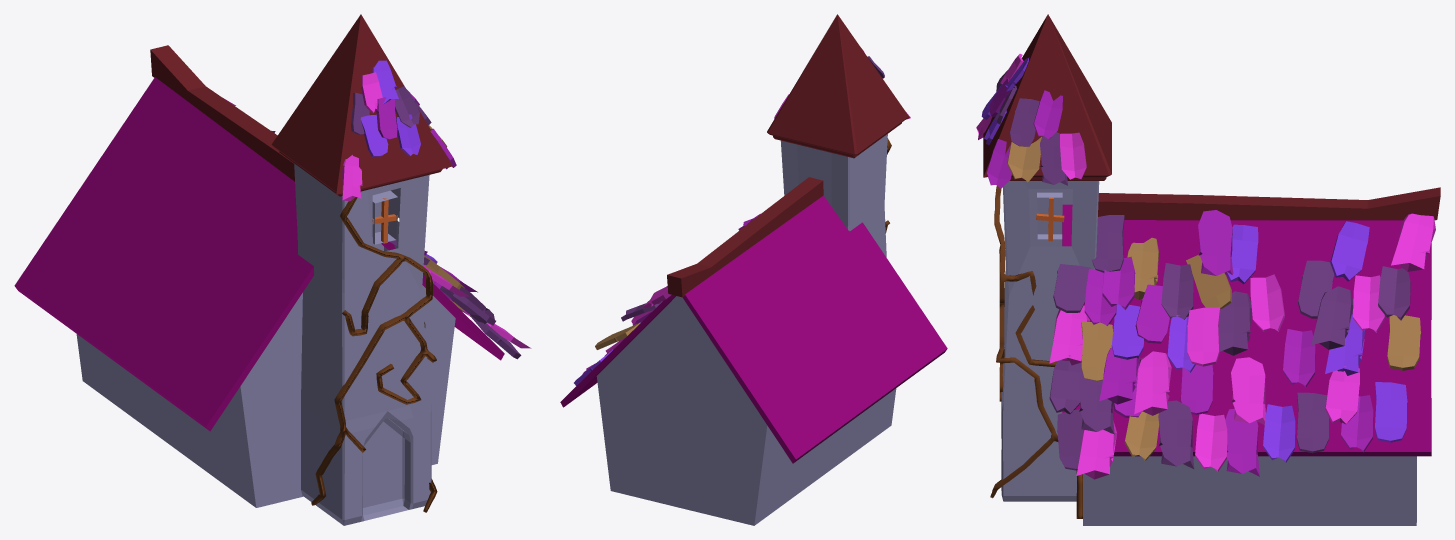
Rendered from CHURCH.glb.
The picture shows the model from 3 angles, left to right: view 1: azimuth 30°, elevation 25°; view 2: azimuth 150°, elevation 25°; view 3: azimuth 270°, elevation 25°; orthographic projection. The views are drawn at different scales.
Parts seen in each view (by area): view 1: Cube.020, Cube.070, Cube.043; view 2: Cube.020, Cube.043; view 3: Cube.020, Cube.043, Cube.070.
Boxes of the visible parts, left/top/right/bottom form: Cube.020: left=14, top=14, right=504, bottom=525; Cube.070: left=342, top=60, right=456, bottom=201; Cube.043: left=223, top=98, right=531, bottom=359; Cube.020: left=560, top=14, right=947, bottom=525; Cube.043: left=574, top=213, right=760, bottom=385; Cube.020: left=983, top=14, right=1440, bottom=525; Cube.043: left=1049, top=210, right=1435, bottom=479; Cube.070: left=976, top=53, right=1086, bottom=188.
Size of the model in its own units: 5.28 by 7.39 by 6.65.
9 materials, 3 textured.
